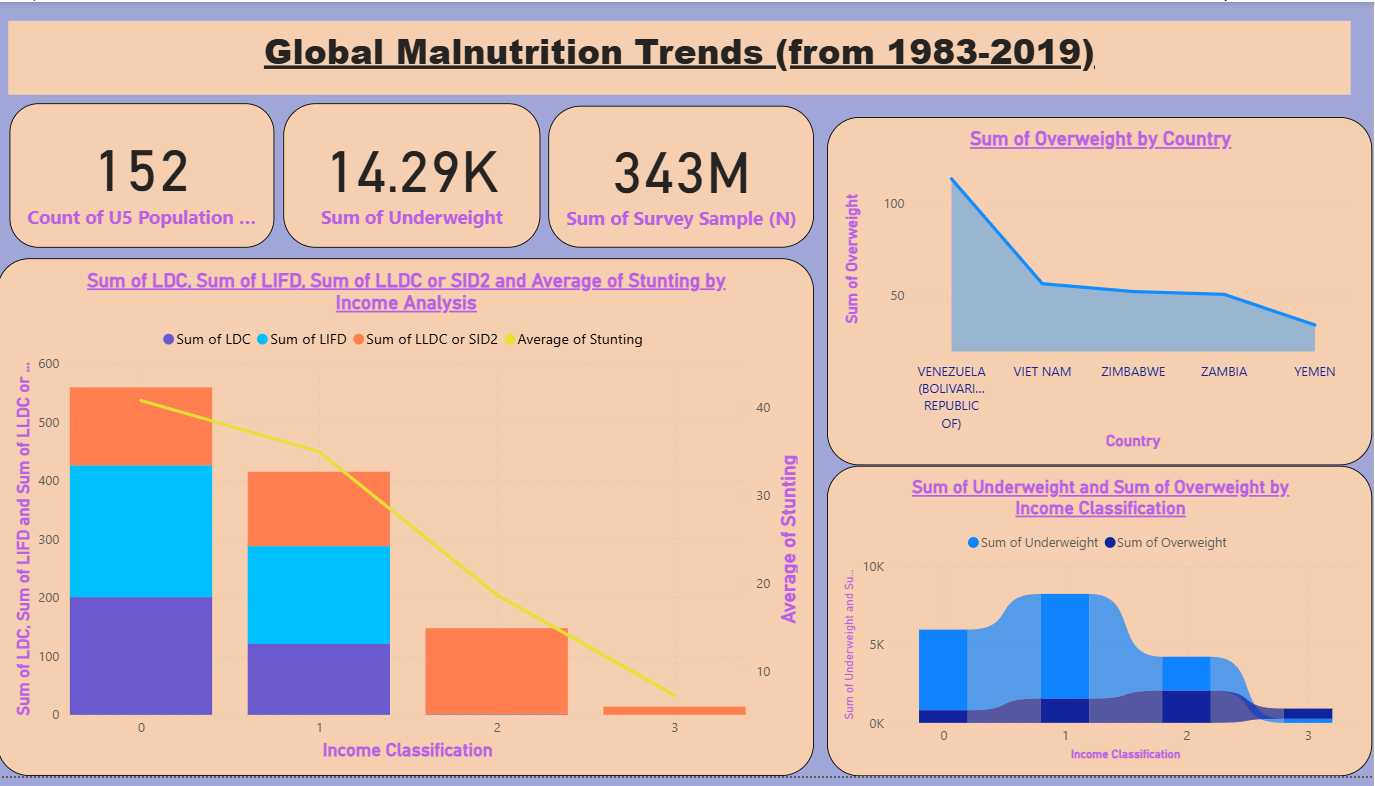

What the dashboard file says about the page in this screenshot:
{"tool":"powerbi","page":{"name":"Page 1","canvas":[1280,720],"ordinal":0},"visuals":[{"type":"textbox","box":[11,17.8,1248.7,68.6],"z":0},{"type":"card","fields":{"Values":["CountNonNull(country-wise-average.U5 Population ('000s))"]},"box":[11.2,94.5,246.3,134.3],"z":1000},{"type":"card","fields":{"Values":["Sum(malnutrition-estimates.Survey Sample (N))"]},"box":[512.5,97,247.5,131.9],"z":2000},{"type":"card","fields":{"Values":["Sum(malnutrition-estimates.Underweight)"]},"box":[266.2,94.5,238.8,134.3],"z":3000},{"type":"stackedAreaChart","fields":{"Category":["malnutrition-estimates.Country"],"Y":["Sum(malnutrition-estimates.Overweight)"]},"box":[772.5,107.5,507.5,323.8],"z":4000},{"type":"lineStackedColumnComboChart","title":"Sum of LDC, Sum of LIFD, Sum of LLDC or SID2 and Average of Stunting by Income Analysis","fields":{"Category":["malnutrition-estimates.Income Classification"],"Y":["Sum(malnutrition-estimates.LDC)","Sum(malnutrition-estimates.LIFD)","Sum(malnutrition-estimates.LLDC or SID2)"],"Y2":["Avg(malnutrition-estimates.Stunting)"]},"box":[0,238.8,760,481.2],"z":5000},{"type":"ribbonChart","fields":{"Category":["malnutrition-estimates.Income Classification"],"Y":["Sum(malnutrition-estimates.Underweight)","Sum(malnutrition-estimates.Overweight)"]},"box":[772.5,431.2,507.5,288.8],"z":6000}]}

Visuals, with their boxes in screenshot pixels (x1, y1, x2, y2), scaled from the page's 1280x720 canvas onto the 1375x786 screenshot:
textbox: [left=12, top=19, right=1353, bottom=94]
card - CountNonNull(country-wise-average.U5 Population ('000s)): [left=12, top=103, right=277, bottom=250]
card - Sum(malnutrition-estimates.Survey Sample (N)): [left=551, top=106, right=816, bottom=250]
card - Sum(malnutrition-estimates.Underweight): [left=286, top=103, right=542, bottom=250]
stackedAreaChart - malnutrition-estimates.Country x Sum(malnutrition-estimates.Overweight): [left=830, top=117, right=1374, bottom=471]
"Sum of LDC, Sum of LIFD, Sum of LLDC or SID2 and Average of Stunting by Income Analysis" lineStackedColumnComboChart: [left=0, top=261, right=816, bottom=785]
ribbonChart - malnutrition-estimates.Income Classification x Sum(malnutrition-estimates.Underweight): [left=830, top=471, right=1374, bottom=785]
